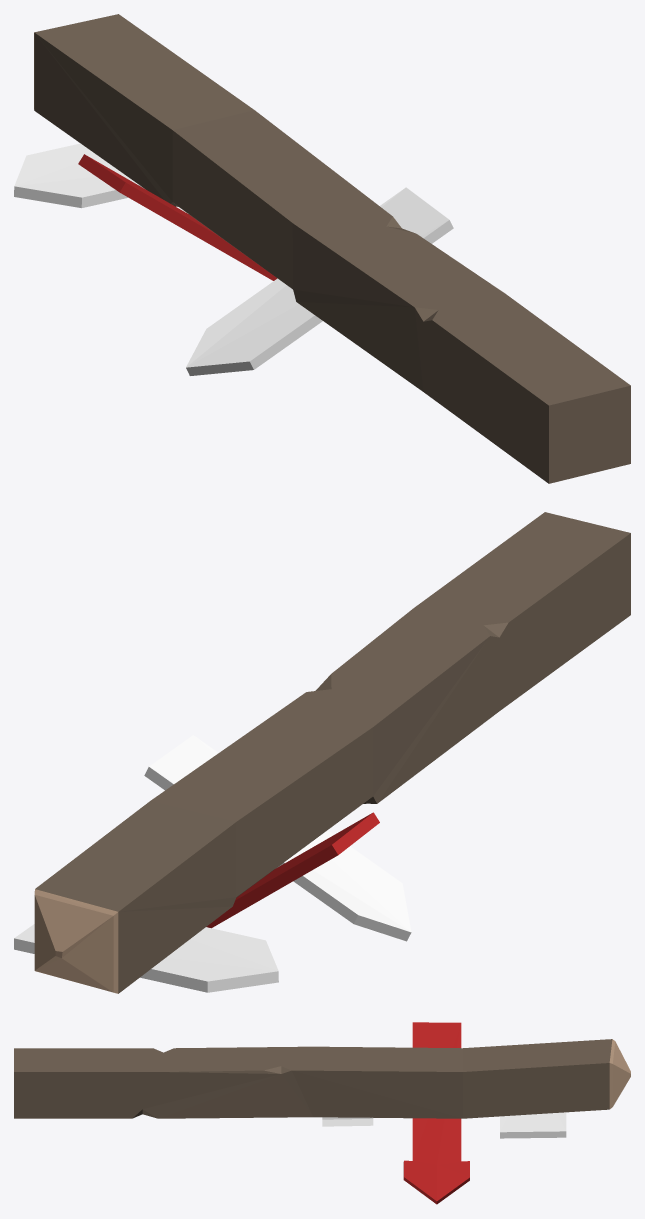
File: city sign.FBX
The picture shows the model from 3 angles, top to bottom: view 1: azimuth 30°, elevation 25°; view 2: azimuth 150°, elevation 25°; view 3: azimuth 270°, elevation 25°; orthographic projection. The views are drawn at different scales.
Parts seen in each view (by area): view 1: city_sign; view 2: city_sign; view 3: city_sign.
Boxes of the visible parts, bbox=[...] form: city_sign: bbox=[14, 14, 630, 483]; city_sign: bbox=[14, 512, 630, 993]; city_sign: bbox=[14, 1022, 630, 1204].
Bounding box in the file's own units: 55.97 × 41.86 × 191.
